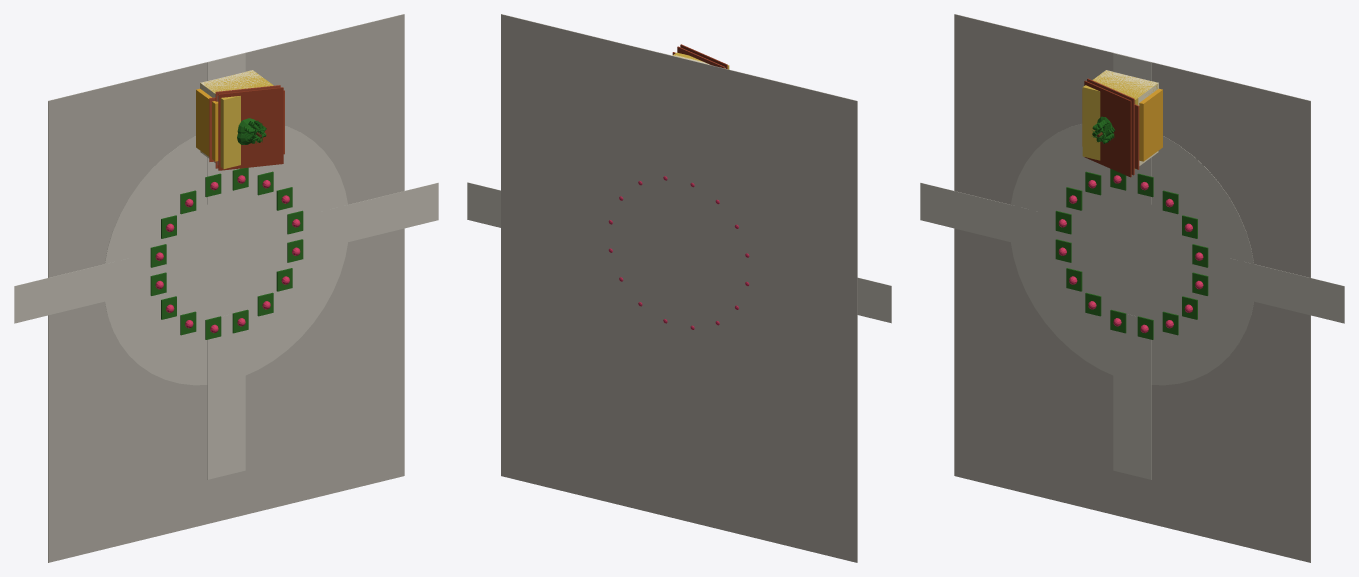
File: entorno_plaza.obj
3 views of the same model, side by side, from view 1: azimuth 30°, elevation 25°; view 2: azimuth 150°, elevation 25°; view 3: azimuth 330°, elevation 25° (orthographic).
Parts seen in each view (by area): view 1: Export_Plaza; view 2: Export_Plaza; view 3: Export_Plaza.
Part boxes in pixels (box(x1,y1,x2,y2)): Export_Plaza: box(14, 14, 438, 562); Export_Plaza: box(467, 14, 891, 562); Export_Plaza: box(920, 14, 1344, 562).
Bounding box in the file's own units: 50 × 52 × 7.17.
